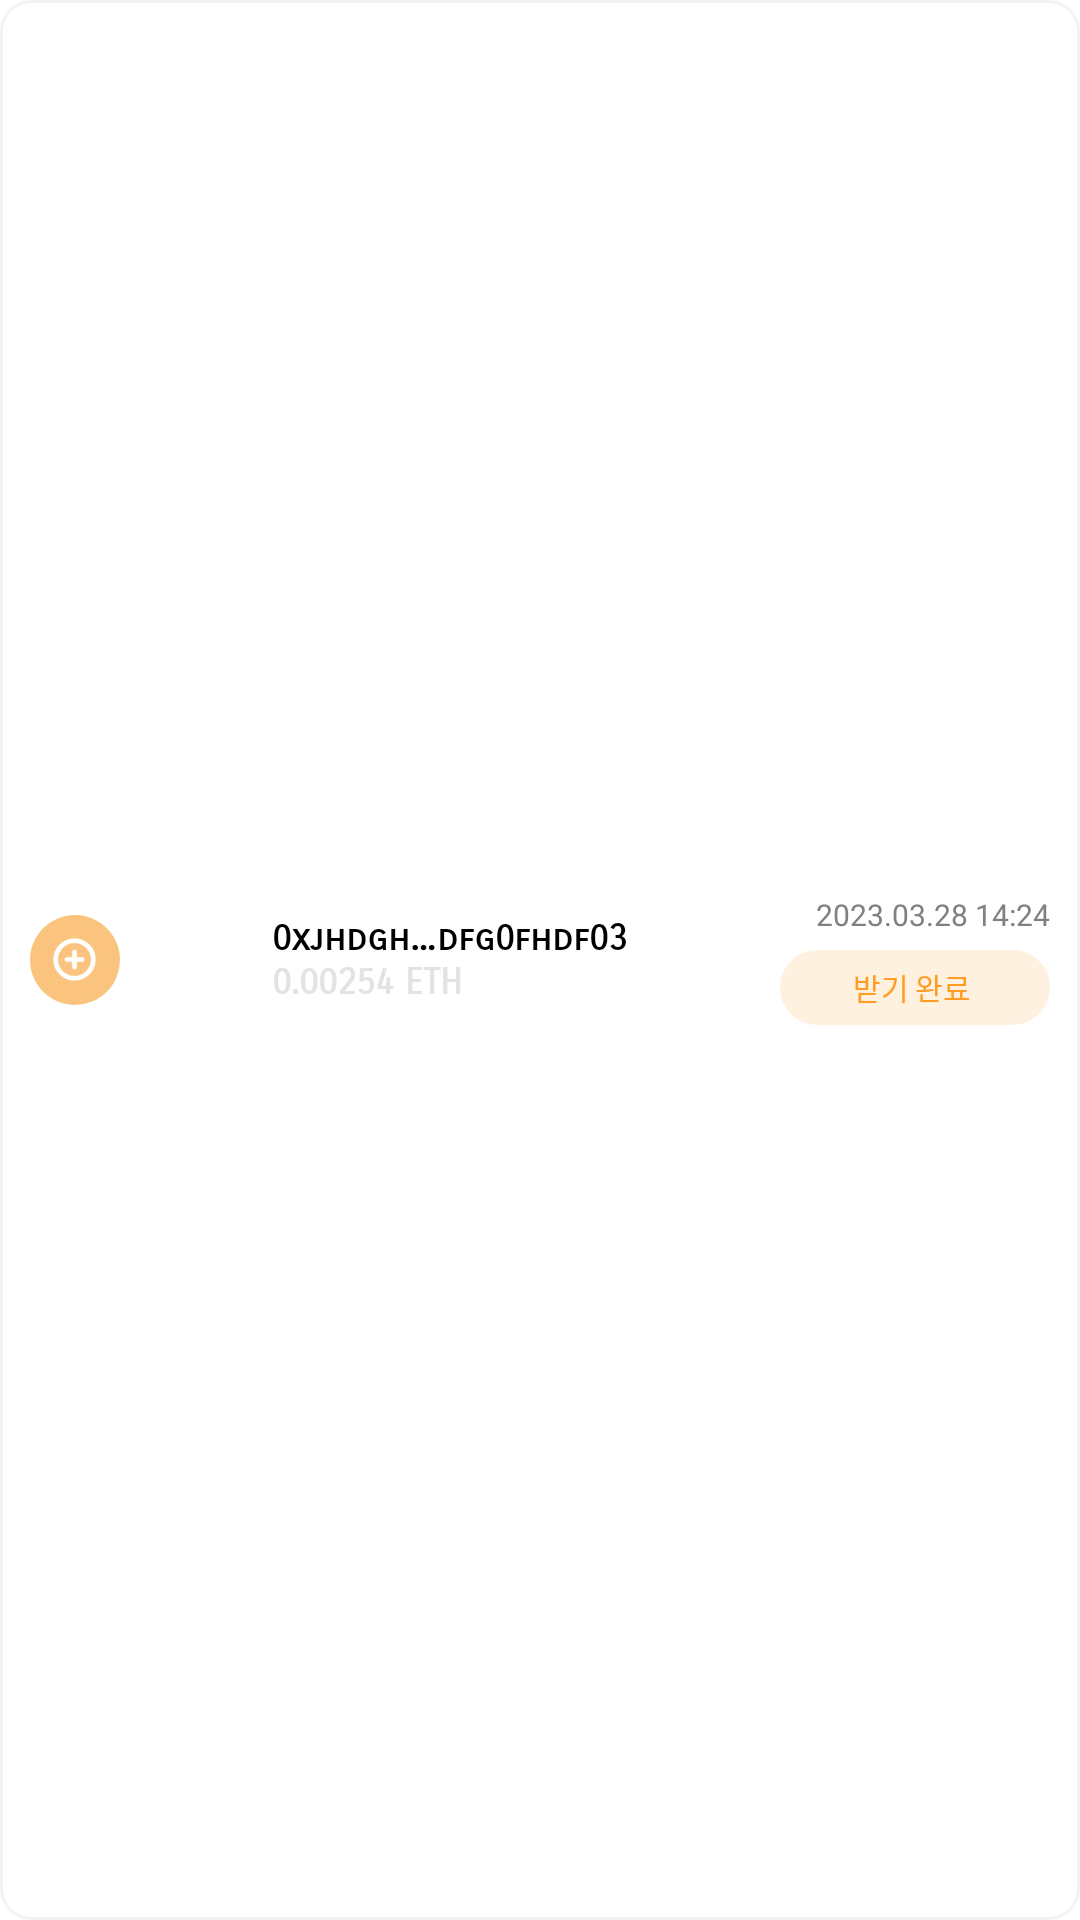

Icons on this 1080px×1920px Android screen, each with its box as (x1=x1, y1=y1, x2=x2, y2=y2):
plus circle: (x1=53, y1=938, x2=96, y2=981)
